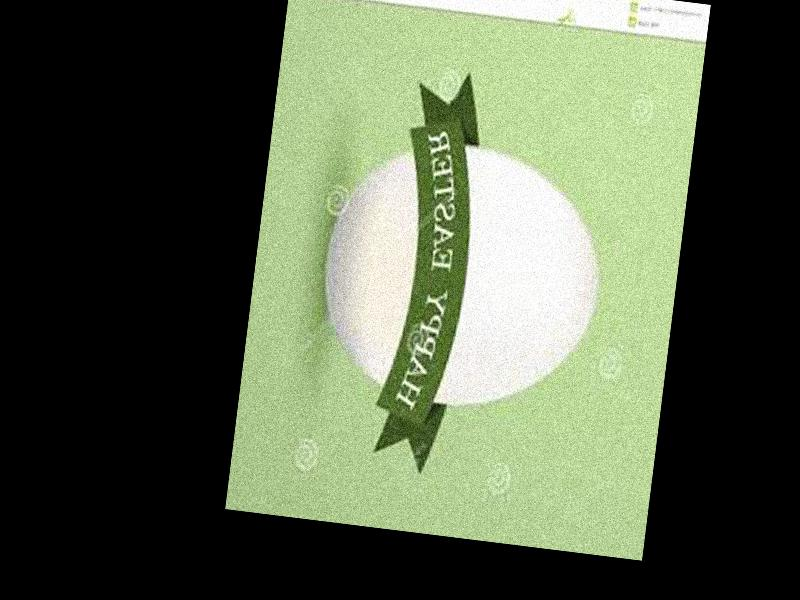Eggs: (312, 128, 613, 418)
